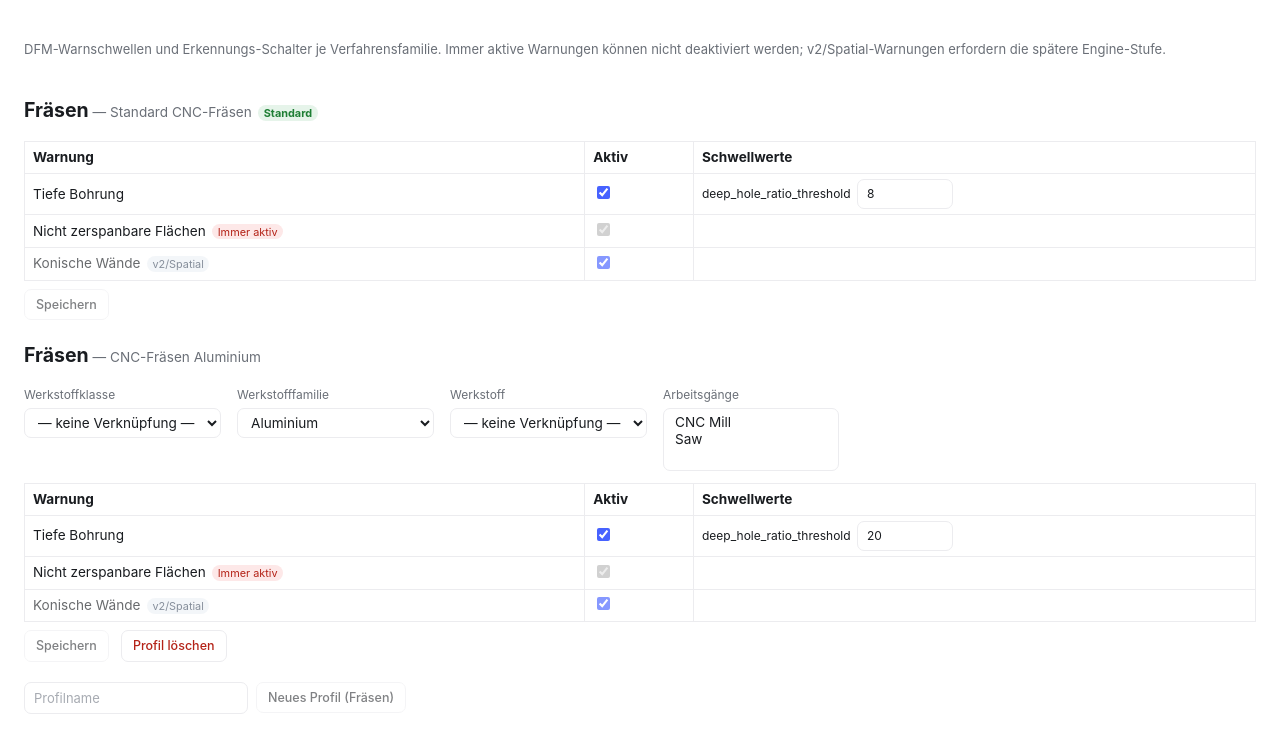
it: InterrogationsPage › creates a named profile per family and deletes only variants
The width and height of the screenshot is (1280, 750).
(page scrolled)
Check: the text "— CNC-Fräsen Aluminium" is shown, box [89,349,261,365]
Check: the number of buttons "Profil löschen" is 1, box [121,630,226,662]
Type "Fräsen Messing" into the field labelled "Profilname" at (136, 698), box [24,682,248,714]
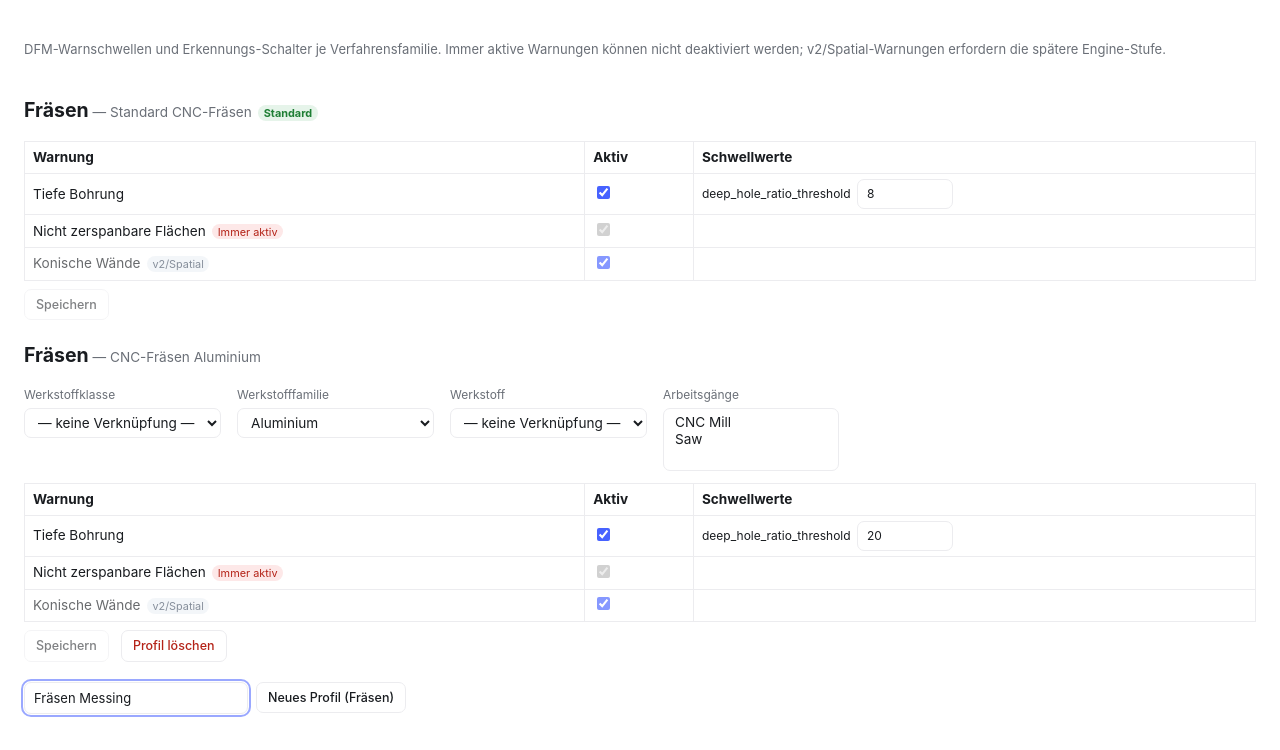
Click the button "Neues Profil (Fräsen)" at (331, 698), box [256,682,406,713]
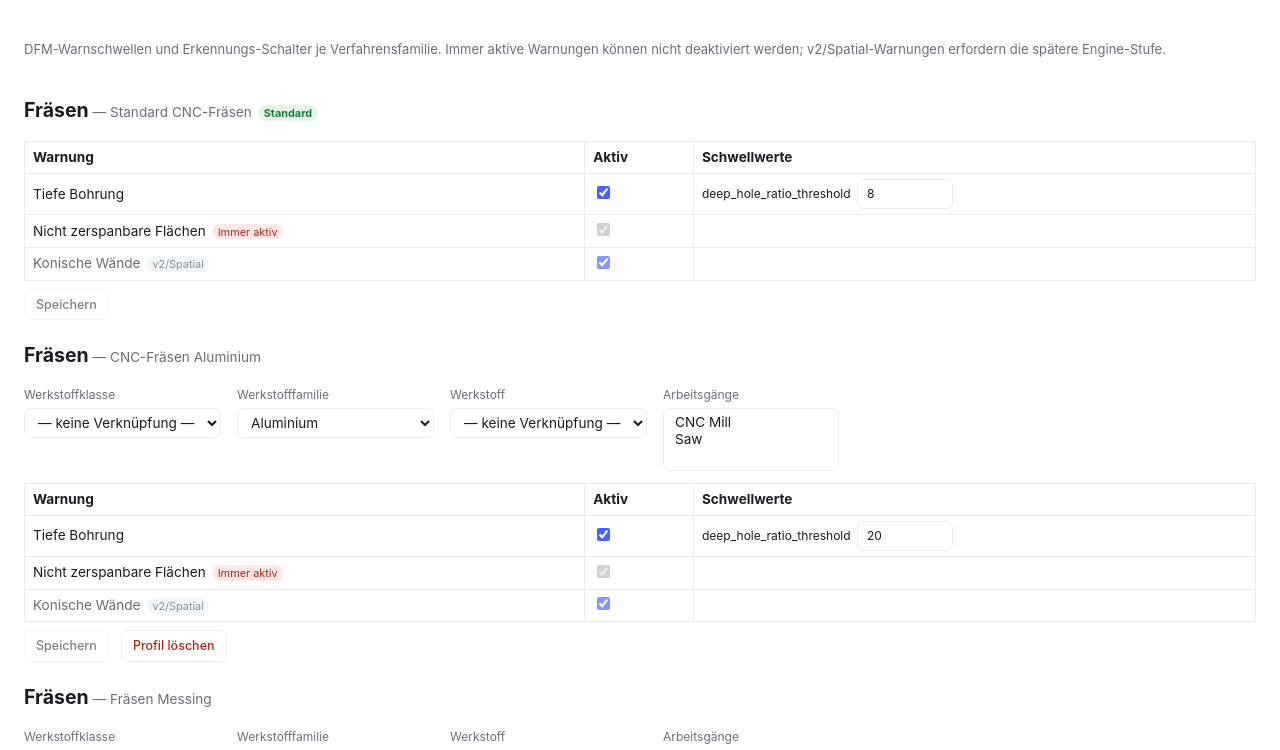
Check: the text "— Fräsen Messing" is shown, box [89,691,212,707]
Click the button "Profil löschen" at (174, 646), box [121,630,226,662]
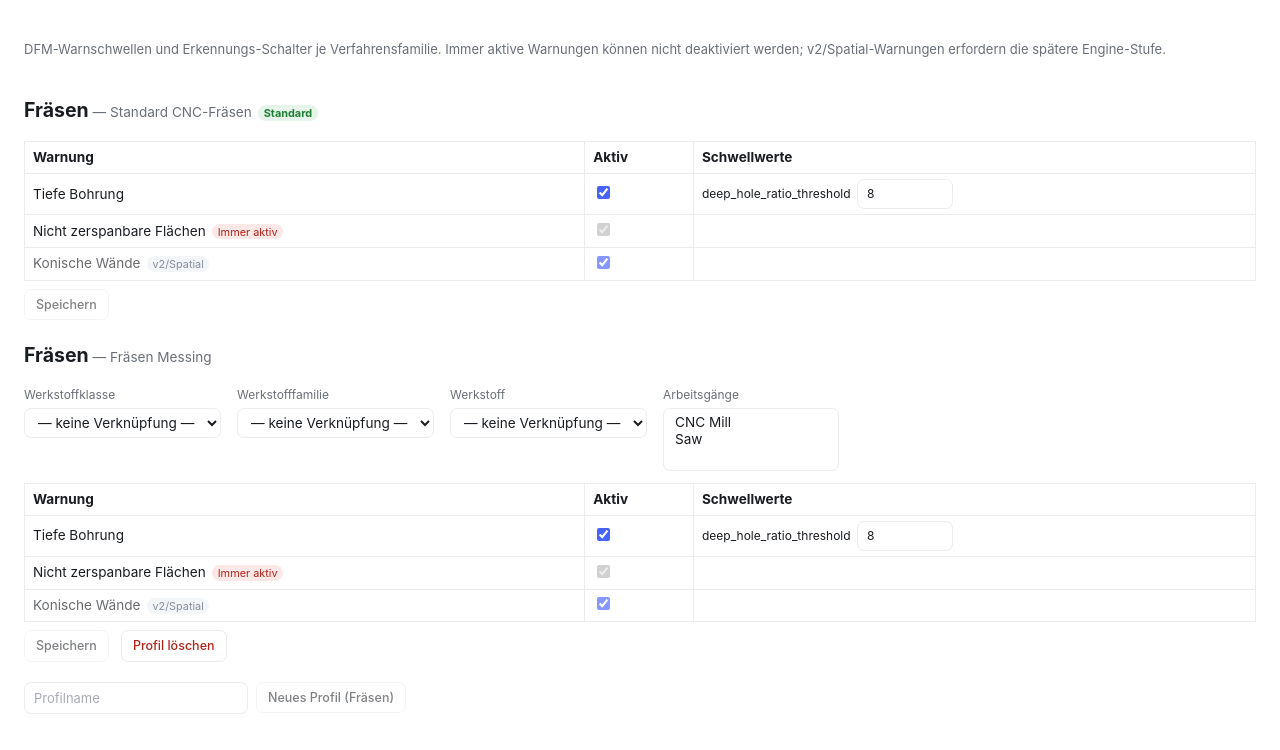
Check: the text "— Standard CNC-Fräsen" is shown, box [89,104,252,120]
Check: the text "CNC-Fräsen Aluminium" is gone
